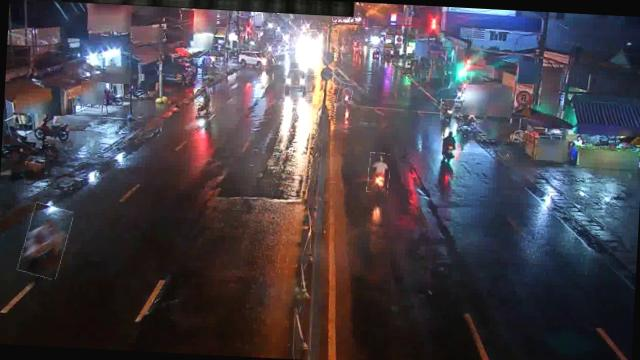Bike: (20, 202, 70, 278), (367, 152, 390, 192), (441, 127, 462, 165), (193, 87, 211, 116), (440, 98, 456, 121), (337, 82, 352, 104)
